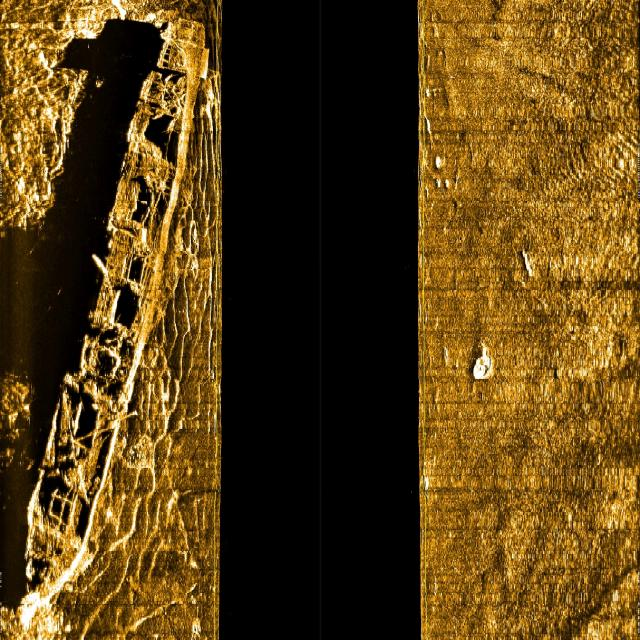ship: (23, 18, 205, 623)
